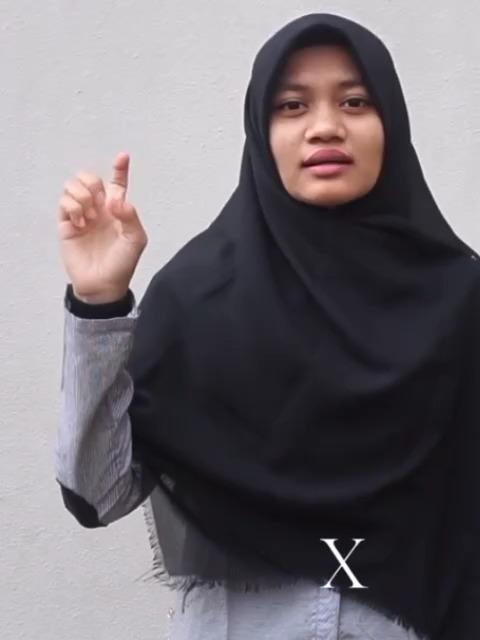X: (55, 145, 154, 297)
